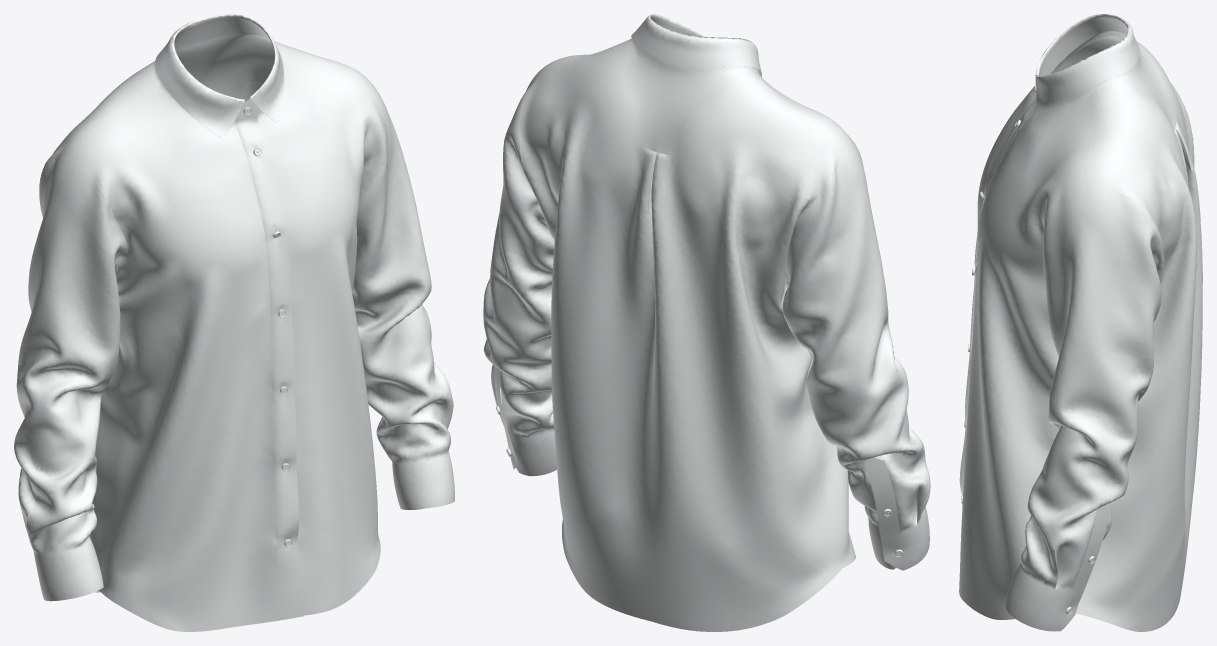
Rendered from shirt.glb.
3 renders of one model, left to right at view 1: azimuth 30°, elevation 25°; view 2: azimuth 150°, elevation 25°; view 3: azimuth 270°, elevation 25°, orthographic.
Parts seen in each view (by area): view 1: Cloth; view 2: Cloth; view 3: Cloth.
Boxes of the visible parts, box(x1,y1,x2,y2) form: Cloth: box(14, 14, 454, 631); Cloth: box(483, 14, 930, 631); Cloth: box(959, 14, 1202, 631).
Size of the model in its own units: 61.71 by 78.02 by 30.41.
5 materials, 5 textured.
